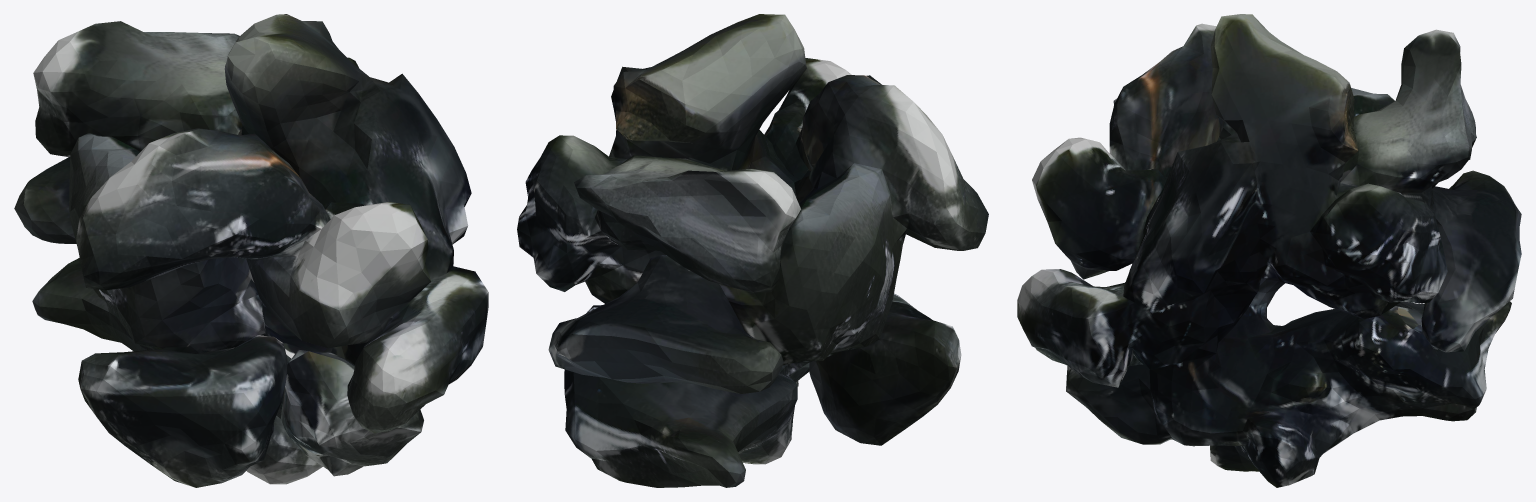
File: volcanic_glass_001.glb
The picture shows the model from 3 angles, left to right: view 1: azimuth 30°, elevation 25°; view 2: azimuth 150°, elevation 25°; view 3: azimuth 270°, elevation 25°; orthographic projection. The views are drawn at different scales.
Visible parts, largest first — view 1: tripo_node_73494101-1180-4bcc-a139-bce6e84cf5c8; view 2: tripo_node_73494101-1180-4bcc-a139-bce6e84cf5c8; view 3: tripo_node_73494101-1180-4bcc-a139-bce6e84cf5c8.
Part boxes in pixels (x1,y1,x2,y2): tripo_node_73494101-1180-4bcc-a139-bce6e84cf5c8: (14,14,488,487); tripo_node_73494101-1180-4bcc-a139-bce6e84cf5c8: (517,14,988,487); tripo_node_73494101-1180-4bcc-a139-bce6e84cf5c8: (1017,14,1521,487).
Size of the model in its own units: 0.7915 by 0.9056 by 0.9401.
Materials: 1 (1 with a texture image).
